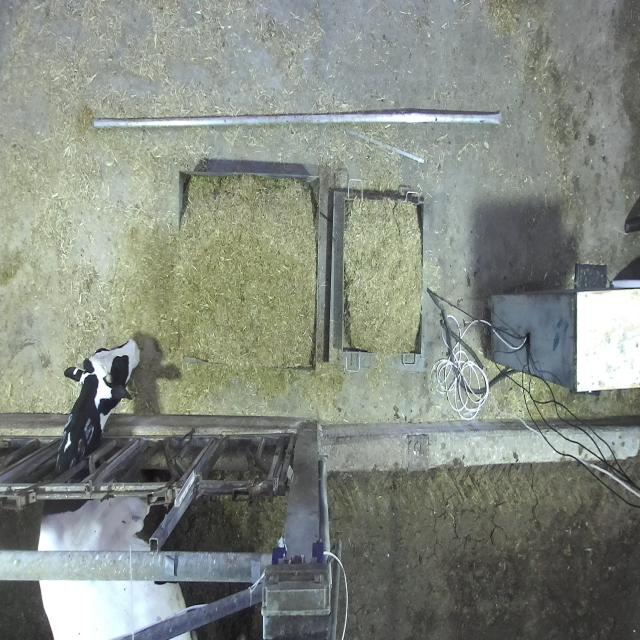cow: (64, 337, 140, 408)
